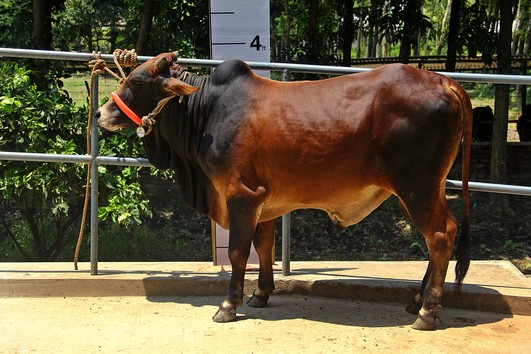cow: (91, 45, 472, 336)
